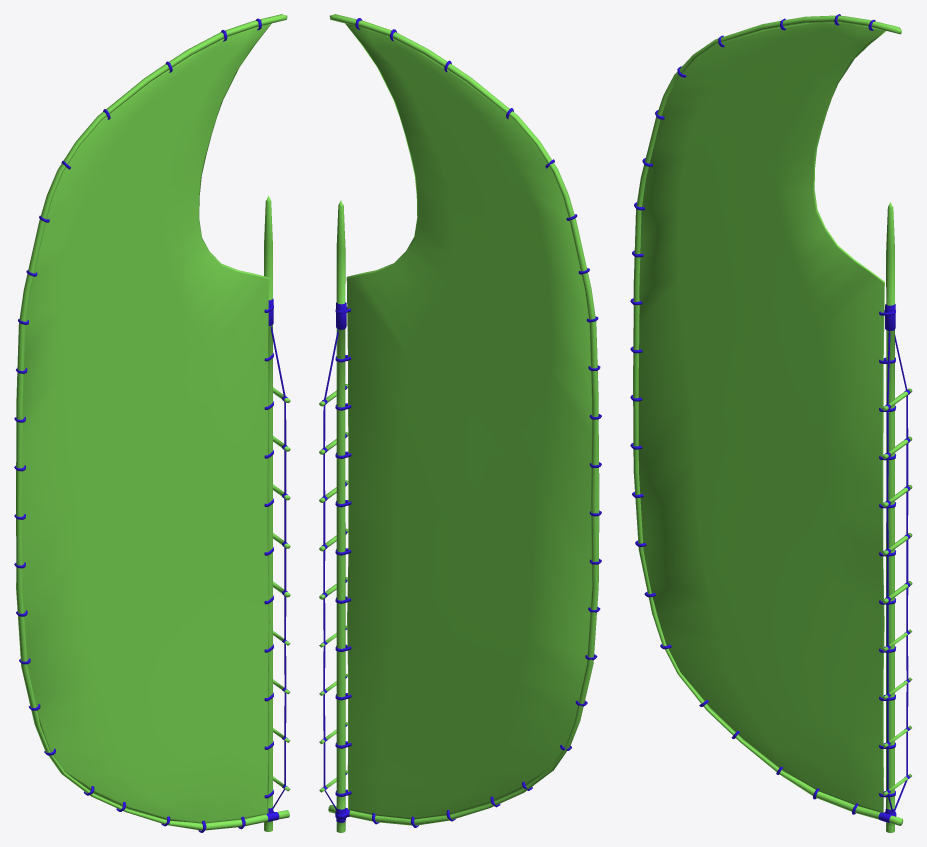
The model's file is SM_Tipairua_Sail.fbx.
The picture shows the model from 3 angles, left to right: view 1: azimuth 30°, elevation 25°; view 2: azimuth 150°, elevation 25°; view 3: azimuth 330°, elevation 25°; orthographic projection.
Parts seen in each view (by area): view 1: SM_TIpairua_Sails; view 2: SM_TIpairua_Sails; view 3: SM_TIpairua_Sails.
Part boxes in pixels (<box>): SM_TIpairua_Sails: <box>14,14,290,832</box>; SM_TIpairua_Sails: <box>319,14,601,832</box>; SM_TIpairua_Sails: <box>630,14,912,832</box>.
Size of the model in its own units: 96.61 by 589 by 1683.
